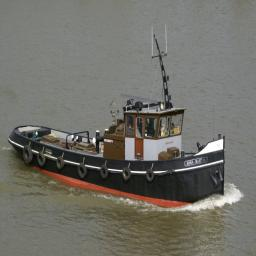tugboat: (8, 25, 229, 220)
